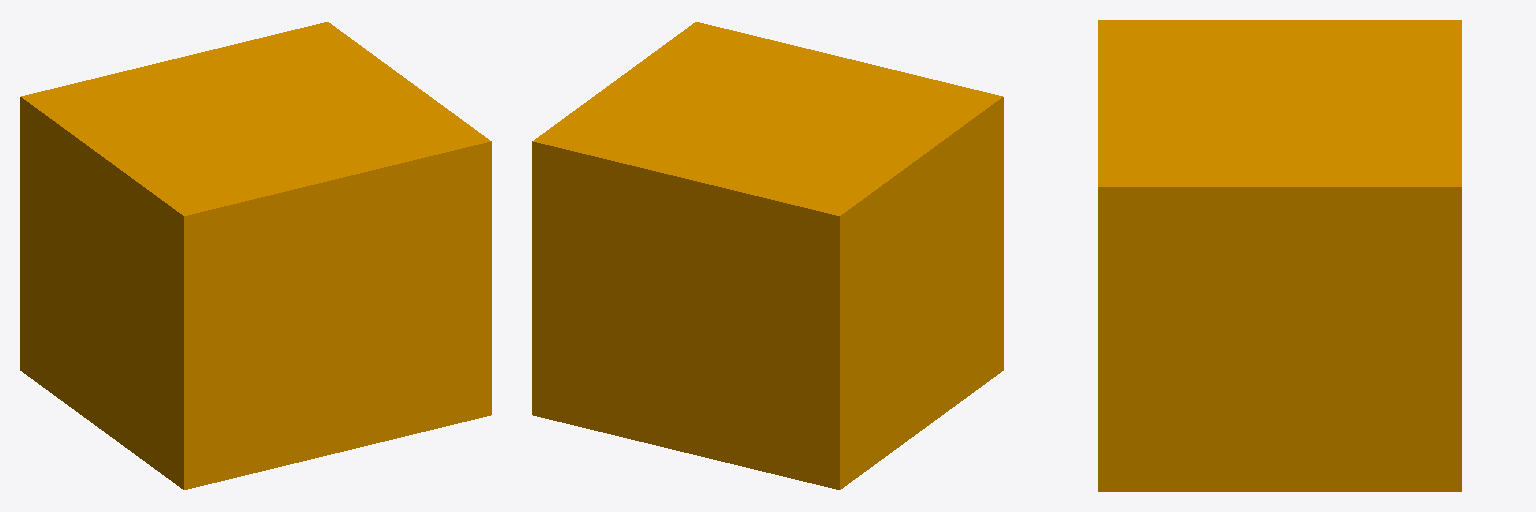
URDF robot description (object):
<?xml version="1.0"?>
<!-- Auto-generated by tools/gen_primitive_objects.py. kind=box dims=(0.074142, 0.068335, 0.063159) -->
<robot name="object">
  <link name="object">
    <visual>
      <origin xyz="0 0 0"/>
      <geometry>
        <box size="0.074142 0.068335 0.063159"/>
      </geometry>
    </visual>
    <collision>
      <origin xyz="0 0 0"/>
      <geometry>
        <box size="0.074142 0.068335 0.063159"/>
      </geometry>
    </collision>
    <inertial>
      <mass value="0.063999"/>
      <inertia ixx="0.00004618" ixy="0.0" ixz="0.0" iyy="0.00005059" iyz="0.0" izz="0.00005422"/>
    </inertial>
  </link>
</robot>

--- Render facts (derived) ---
The picture shows the robot from 3 angles, left to right: view 1: azimuth 30°, elevation 25°; view 2: azimuth 150°, elevation 25°; view 3: azimuth 270°, elevation 25°; orthographic projection.
Robot: object — 1 links, 0 joints (none); root link object; default pose: every joint at zero.
Visible links, largest first — view 1: object; view 2: object; view 3: object.
Boxes of the visible links, box(x1,y1,x2,y2) form: object: box(20, 22, 491, 489); object: box(532, 22, 1003, 489); object: box(1098, 20, 1461, 491).
Bounding box of the posed robot: 0.0741 × 0.0683 × 0.0632 m (x, y, z).
Geometry: primitives only (box / cylinder / sphere), no mesh files.
